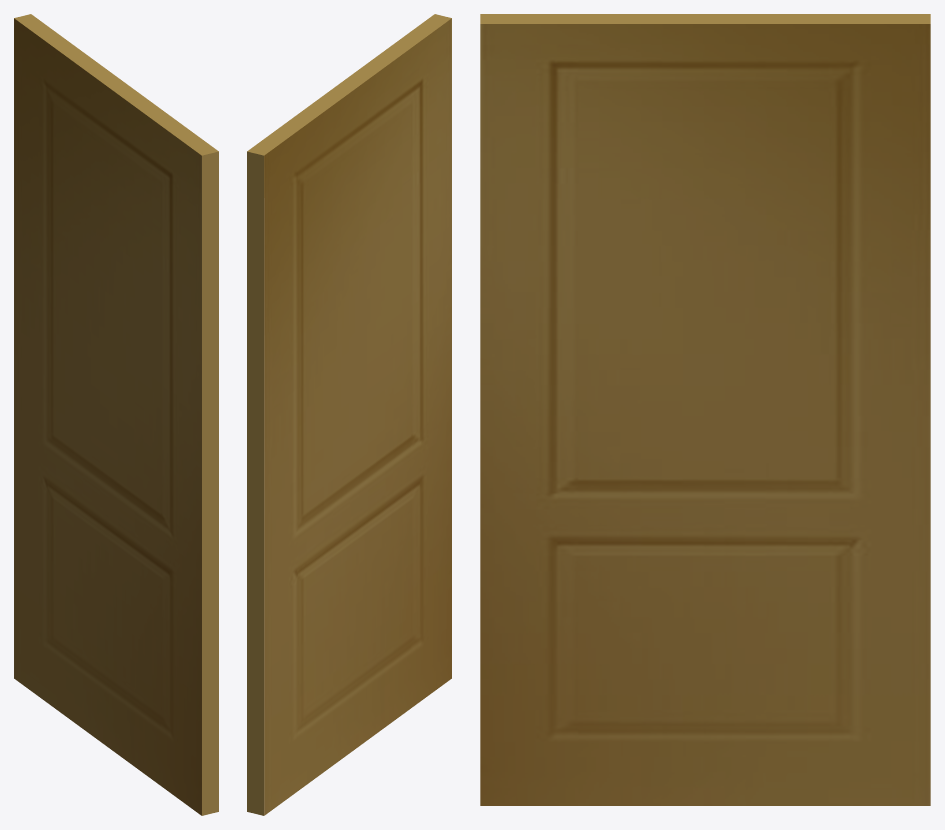
Rendered from Door_Export 1.fbx.
3 renders of one model, left to right at view 1: azimuth 30°, elevation 25°; view 2: azimuth 150°, elevation 25°; view 3: azimuth 270°, elevation 25°, orthographic. The views are drawn at different scales.
Visible parts, largest first — view 1: pCube6; view 2: pCube6; view 3: pCube6.
Part boxes in pixels (<box>): pCube6: <box>14,14,218,815</box>; pCube6: <box>247,14,451,815</box>; pCube6: <box>480,14,930,805</box>.
Size of the model in its own units: 0.1217 by 4.48 by 2.31.
